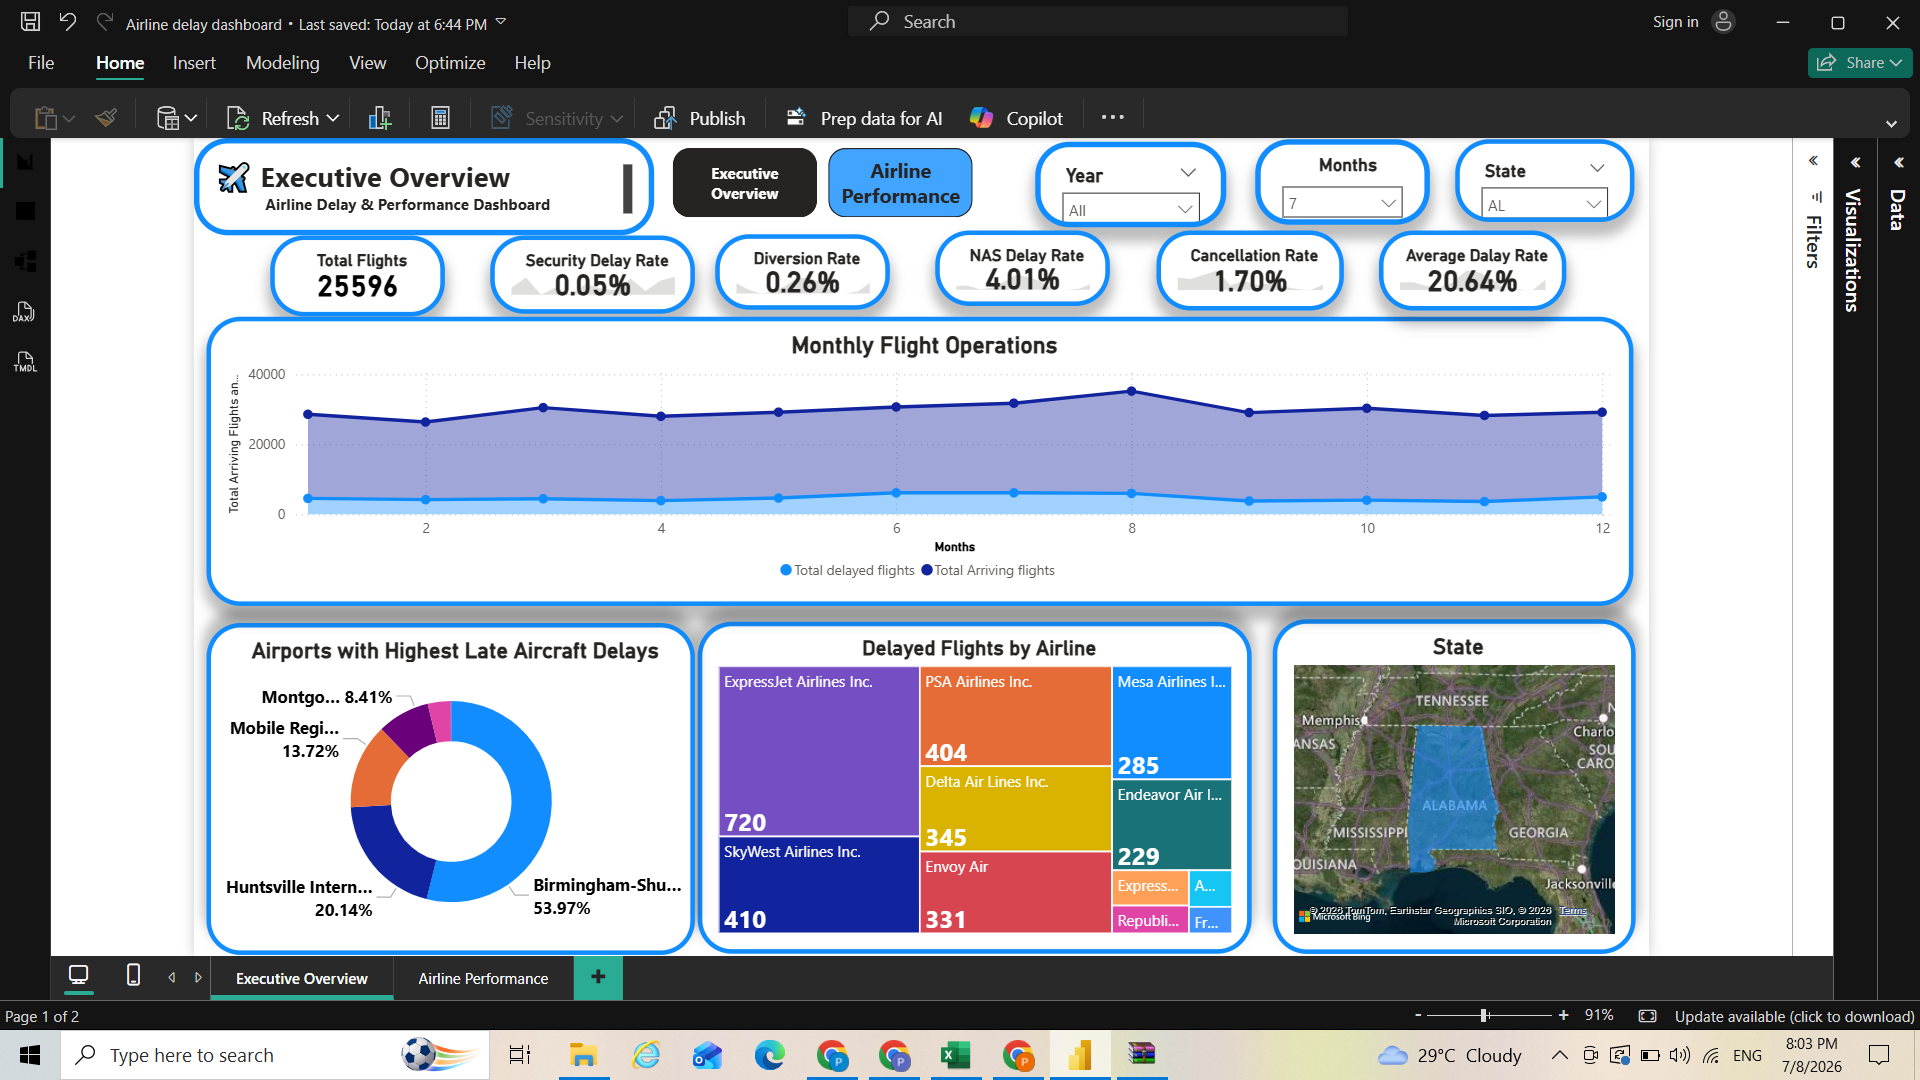

This screenshot's page, from the dashboard's own definition file:
{"tool":"powerbi","page":{"name":"Executive Overview","canvas":[1280,720],"ordinal":0},"visuals":[{"type":"slicer","title":"Year","fields":{"Values":["Airline_Delay_Cause_analysis.year"]},"box":[328,1.2,282,75.1],"z":0},{"type":"slicer","title":"State","fields":{"Values":["Airline_Delay_Cause_analysis. state "]},"box":[968.4,2.4,276,72.6],"z":1000},{"type":"slicer","title":"Months","fields":{"Values":["Airline_Delay_Cause_analysis.month"]},"box":[640.4,1.2,296.6,75.1],"z":2000},{"type":"kpi","title":"NAS Delay Rate","fields":{"Indicator":["Airline_Delay_Cause_analysis.NAS Delay Rate"],"TrendLine":["Airline_Delay_Cause_analysis.month"]},"box":[777.1,83.5,153.7,66.6],"z":3000},{"type":"kpi","title":"Diversion Rate","fields":{"Indicator":["Airline_Delay_Cause_analysis.Diversion Rate"],"TrendLine":["Airline_Delay_Cause_analysis.month"]},"box":[610.1,81.1,153.7,66.6],"z":4000},{"type":"kpi","title":"Security Delay Rate ","fields":{"TrendLine":["Airline_Delay_Cause_analysis.month"],"Indicator":["Airline_Delay_Cause_analysis.Security Delay Rate %"]},"box":[429.7,81.1,180.4,69],"z":5000},{"type":"textbox","box":[3.6,6.1,261.5,248.2],"z":6000},{"type":"treemap","title":"Delayed Flights by Airline","fields":{"Group":["Airline_Delay_Cause_analysis.Airline Name"],"Values":["Sum(Airline_Delay_Cause_analysis.late_aircraft_count)"]},"box":[443,424.4,494.2,291.9],"z":7000},{"type":"donutChart","title":"Airports with Highest Late Aircraft Delays","fields":{"Category":["Airline_Delay_Cause_analysis. airport_name"],"Y":["Sum(Airline_Delay_Cause_analysis.late_aircraft_count)"]},"box":[10.9,426.1,429.7,291.7],"z":8000},{"type":"kpi","title":"Total Flights","fields":{"TrendLine":["Airline_Delay_Cause_analysis.month"],"Indicator":["Sum(Airline_Delay_Cause_analysis.number_of_arriving_flights)"]},"box":[272.4,81.1,153.7,71.4],"z":9000},{"type":"filledMap","title":"State","fields":{"Category":["Airline_Delay_Cause_analysis. state "]},"box":[949.1,423.5,318.8,294.2],"z":10000},{"type":"kpi","title":"Cancellation Rate","fields":{"Indicator":["select","Airline_Delay_Cause_analysis.Cancellation Rate"],"TrendLine":["Airline_Delay_Cause_analysis.month"]},"box":[936.9,82.3,164.6,70.2],"z":11000},{"type":"stackedAreaChart","title":"Monthly Flight Operations","fields":{"Category":["Airline_Delay_Cause_analysis.month"],"Y":["Sum(Airline_Delay_Cause_analysis.number_of_arriving_flights)","Sum(Airline_Delay_Cause_analysis.late_aircraft_count)"]},"box":[272.4,157.4,993.8,254.2],"z":12000},{"type":"kpi","title":"Average Dalay Rate","fields":{"Indicator":["select","Airline_Delay_Cause_analysis.Average Delay Rate"],"TrendLine":["Airline_Delay_Cause_analysis.month"]},"box":[1101.6,83.5,164.6,70.2],"z":13000},{"type":"pageNavigator","box":[10.9,267.5,245.7,144],"z":14000}]}

Visuals, with their boxes on the page's 1280x720 design canvas (x1, y1, x2, y2). These are canvas units, not pixel positions in the 1920x1080 screenshot, which may show the page scaled, cropped or inside an application window:
"Year" slicer: bbox(328, 1, 610, 76)
"State" slicer: bbox(968, 2, 1244, 75)
"Months" slicer: bbox(640, 1, 937, 76)
"NAS Delay Rate" kpi: bbox(777, 84, 931, 150)
"Diversion Rate" kpi: bbox(610, 81, 764, 148)
"Security Delay Rate " kpi: bbox(430, 81, 610, 150)
textbox: bbox(4, 6, 265, 254)
"Delayed Flights by Airline" treemap: bbox(443, 424, 937, 716)
"Airports with Highest Late Aircraft Delays" donutChart: bbox(11, 426, 441, 718)
"Total Flights" kpi: bbox(272, 81, 426, 152)
"State" filledMap: bbox(949, 424, 1268, 718)
"Cancellation Rate" kpi: bbox(937, 82, 1102, 152)
"Monthly Flight Operations" stackedAreaChart: bbox(272, 157, 1266, 412)
"Average Dalay Rate" kpi: bbox(1102, 84, 1266, 154)
pageNavigator: bbox(11, 268, 257, 412)
